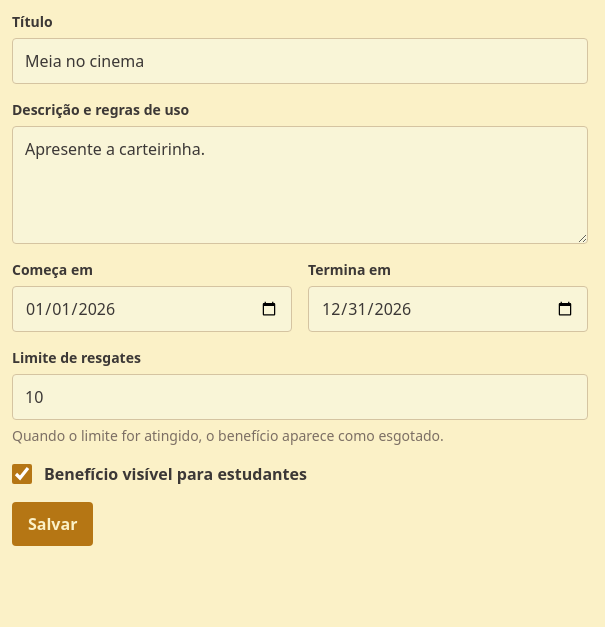
it: BeneficioForm › impede salvar quando a data de fim vem antes do início
Type "2026-05-10" into the date field labelled "Começa em". click: (152, 309)
box: [12,286,292,332]
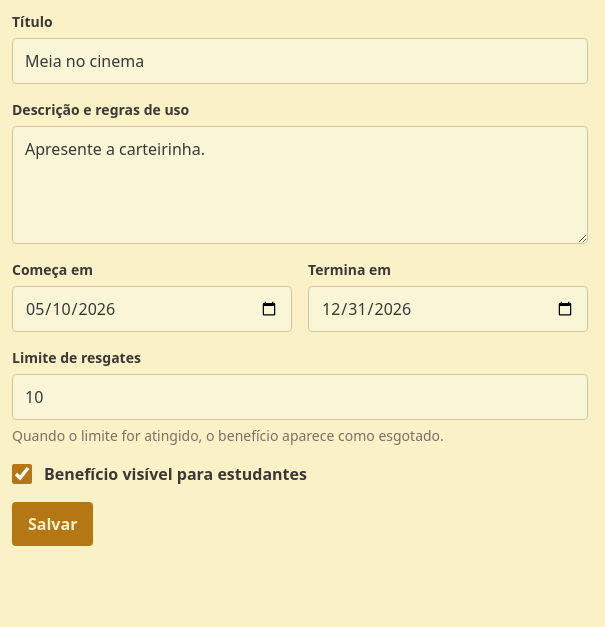
Type "2026-05-01" into the date field labelled "Termina em". click: (448, 309)
box: [308,286,588,332]
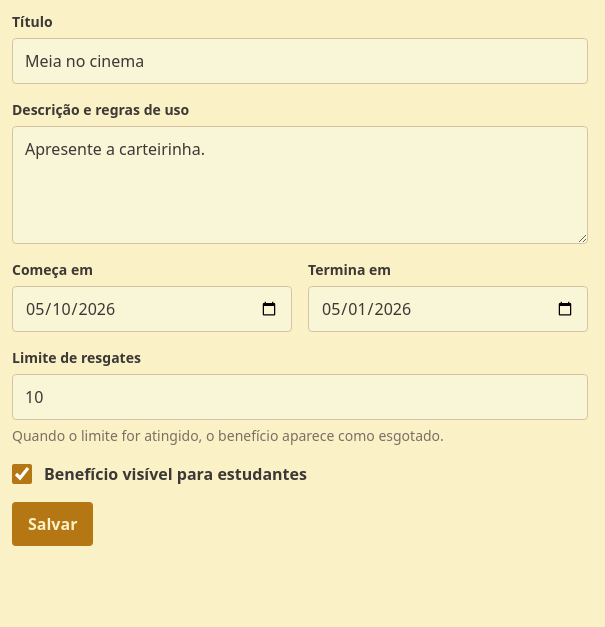
Submit the form from the button "Salvar", box [12,502,93,546]
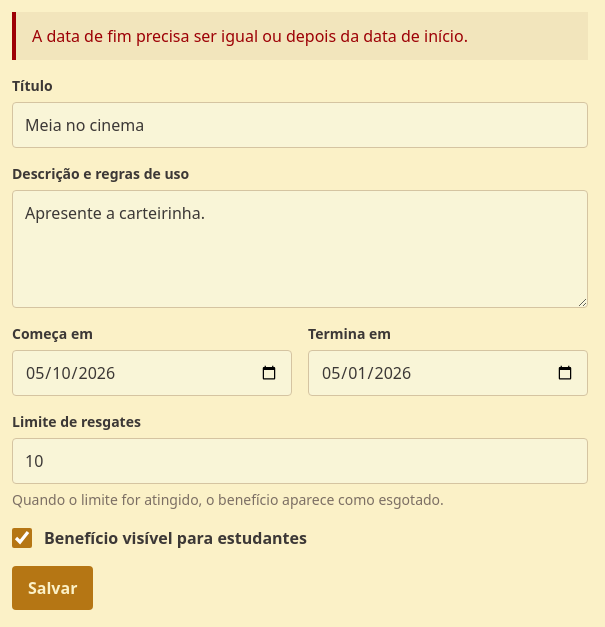
expect the message shows "data de fim precisa ser igual ou depois": met, box [32,25,468,47]
